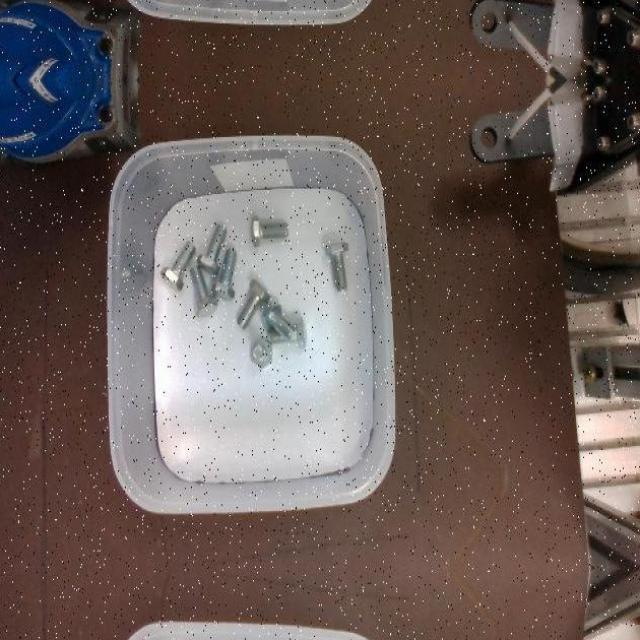screw: (160, 241, 195, 291), (238, 278, 271, 329), (197, 222, 227, 274), (261, 301, 297, 343), (190, 264, 218, 317), (211, 246, 238, 300), (325, 242, 350, 290), (251, 216, 288, 247), (250, 338, 273, 368)
